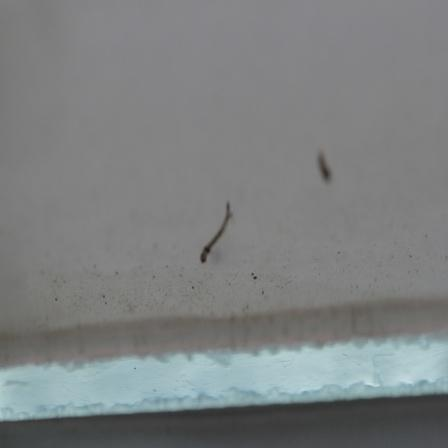Jentik-Nyamuk: (197, 198, 239, 268)
